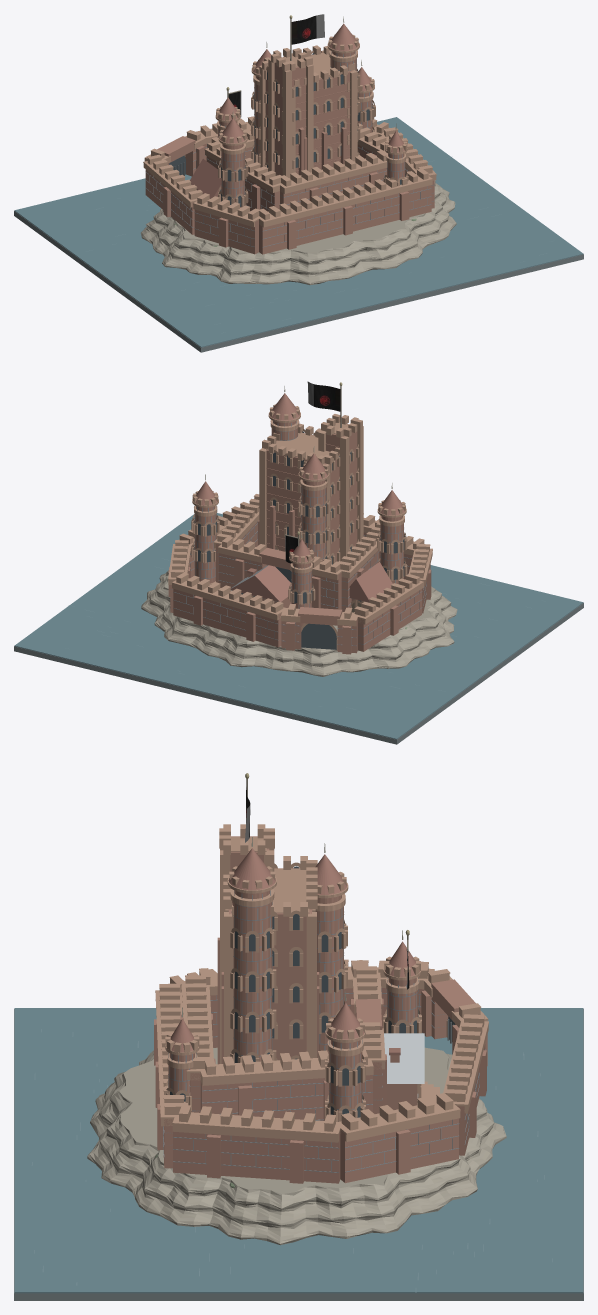
File: red-keep.glb
The picture shows the model from 3 angles, top to bottom: view 1: azimuth 30°, elevation 25°; view 2: azimuth 150°, elevation 25°; view 3: azimuth 270°, elevation 25°; orthographic projection. The views are drawn at different scales.
Visible parts, largest first — view 1: رد کیپ; view 2: رد کیپ; view 3: رد کیپ.
Boxes of the visible parts, left/top/right/bottom form: رد کیپ: left=14, top=14, right=583, bottom=352; رد کیپ: left=14, top=381, right=583, bottom=744; رد کیپ: left=14, top=773, right=583, bottom=1300.
Bounding box in the file's own units: 13.03 × 7.81 × 11.
Materials: 2 (1 with a texture image).
